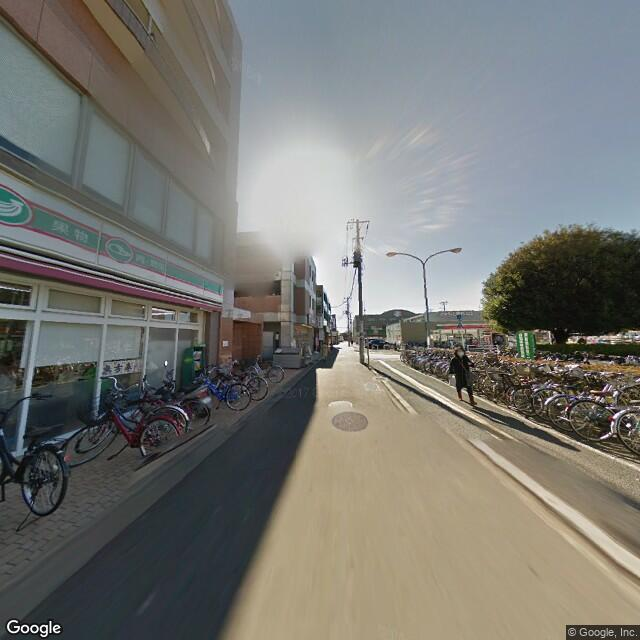lawson: (2, 164, 224, 309)
